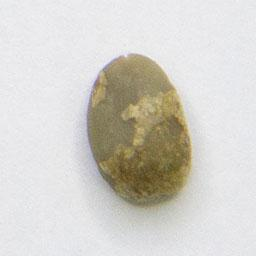premium: (82, 49, 195, 207)
